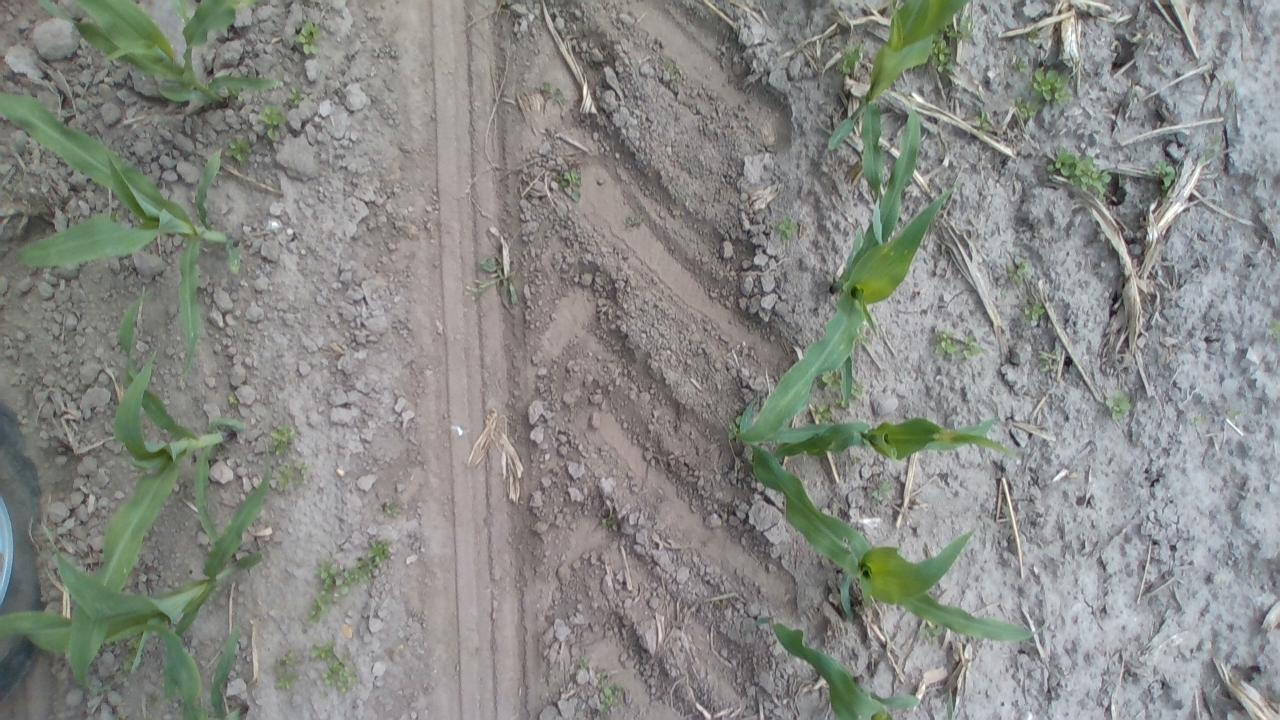Maize: (730, 82, 951, 451), (64, 282, 248, 694), (0, 83, 245, 379), (738, 448, 1042, 640), (15, 469, 282, 686), (823, 0, 976, 221), (34, 0, 288, 109), (748, 397, 1026, 469), (753, 612, 930, 720), (136, 618, 258, 720)
Weeds: (311, 540, 393, 614), (1049, 144, 1111, 198), (308, 640, 359, 694), (471, 251, 518, 306), (1027, 68, 1074, 106), (590, 664, 624, 714), (932, 330, 984, 362), (1146, 159, 1182, 198), (292, 18, 324, 58), (270, 650, 301, 691), (272, 459, 310, 492), (253, 104, 286, 142), (945, 13, 978, 47), (1101, 390, 1133, 424), (266, 423, 296, 457), (836, 42, 864, 78), (556, 164, 584, 200), (223, 135, 256, 165), (932, 37, 959, 73), (775, 212, 802, 246), (1004, 257, 1034, 287), (1019, 298, 1048, 326), (1008, 96, 1038, 122), (1033, 348, 1061, 374), (974, 107, 996, 134), (538, 80, 564, 102), (918, 622, 944, 644), (1202, 132, 1223, 158), (817, 370, 841, 392), (812, 402, 836, 422), (870, 481, 893, 501), (726, 412, 742, 439), (379, 500, 402, 518), (285, 86, 305, 106), (623, 212, 645, 230), (660, 60, 680, 79), (602, 514, 616, 536), (1264, 318, 1276, 342), (1026, 27, 1042, 44), (1012, 58, 1029, 74), (1188, 412, 1205, 428), (850, 381, 864, 400), (856, 328, 869, 348), (228, 393, 240, 408)
